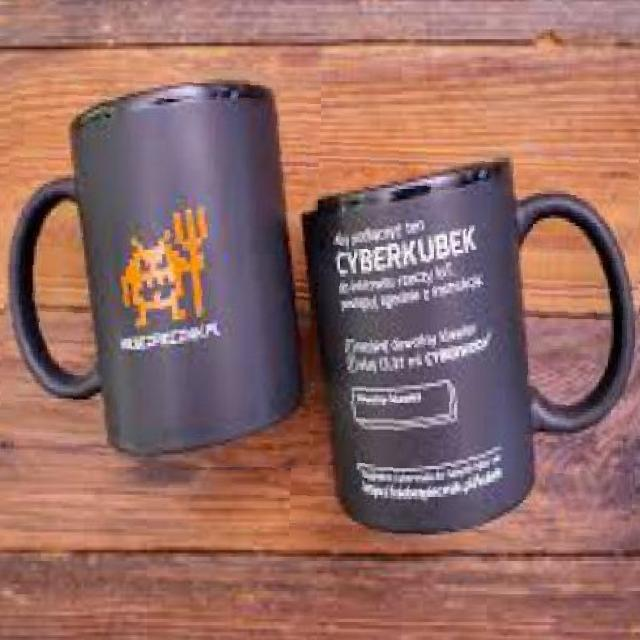cup: (0, 302, 141, 640), (0, 12, 65, 322)
